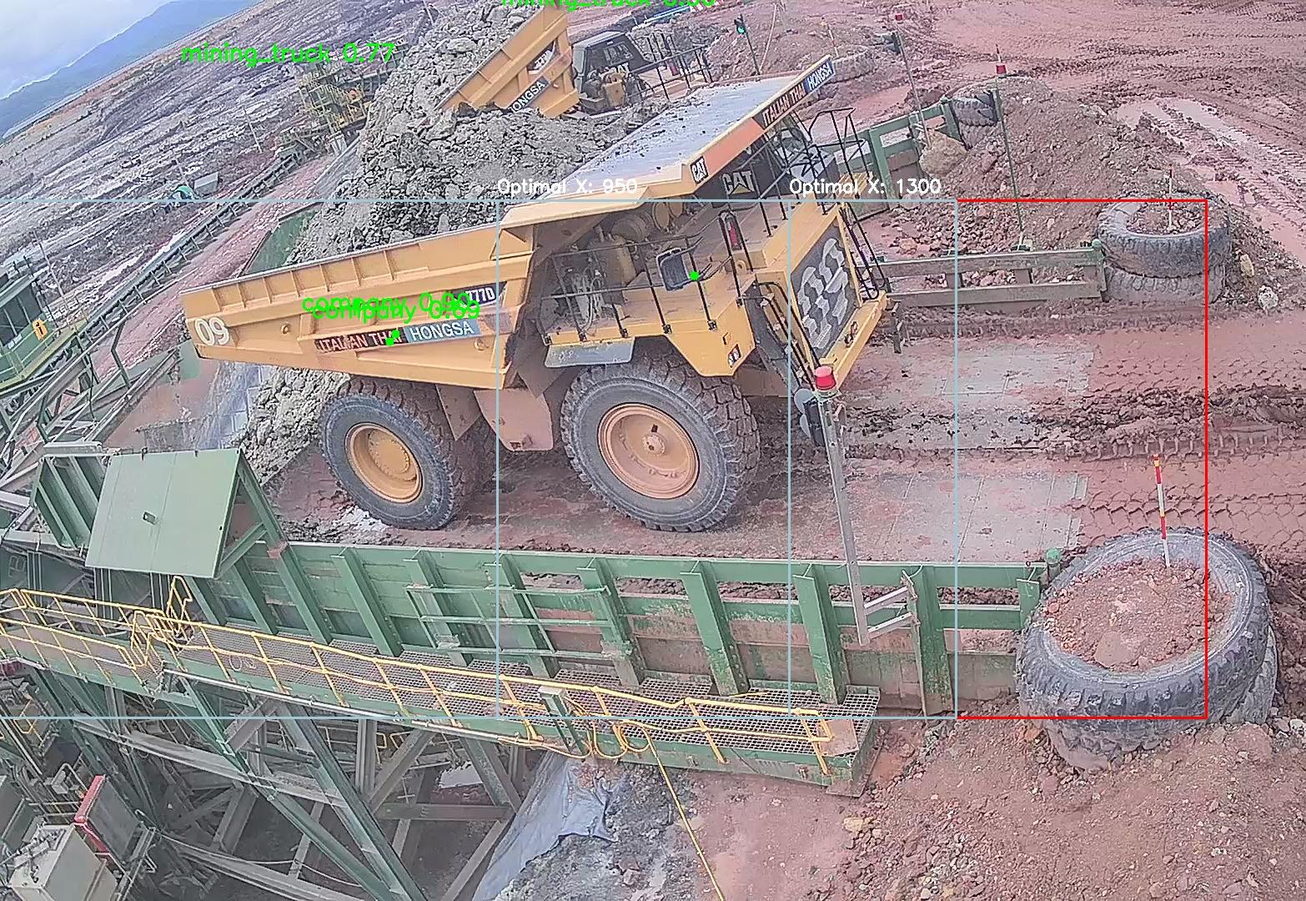company: (295, 310, 488, 355)
full_load: (306, 119, 587, 251)
mining_truck: (176, 63, 930, 540)
tail_number: (187, 309, 235, 352)
truck_size: (455, 282, 503, 307)
